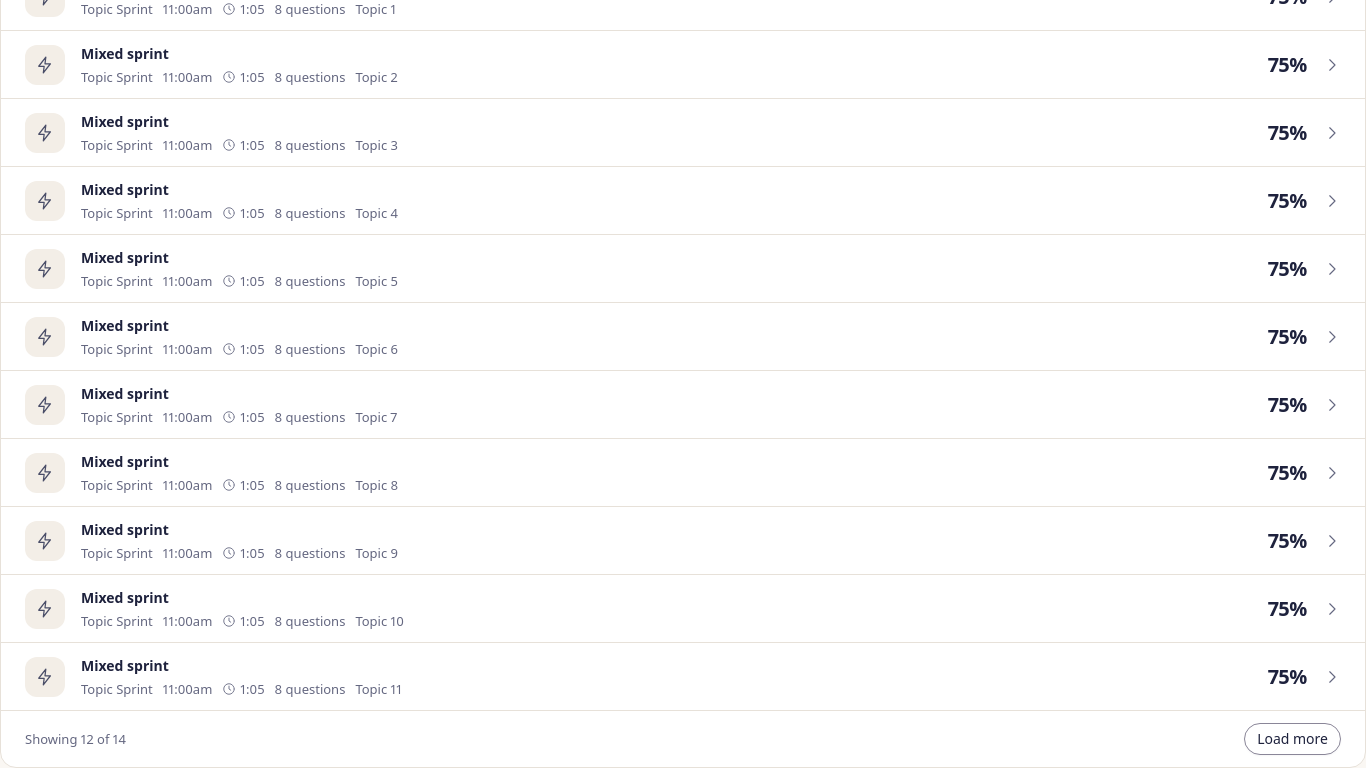
Scenario: reveals additional sessions without replacing the visible history
This screenshot has width=1366, height=768.
(page scrolled)
Check: the text "Showing 12 of 14" is shown, box left=25, top=728, right=126, bottom=750
Click the button "Load more" at (1293, 739), box left=1244, top=723, right=1341, bottom=755
(page scrolled)
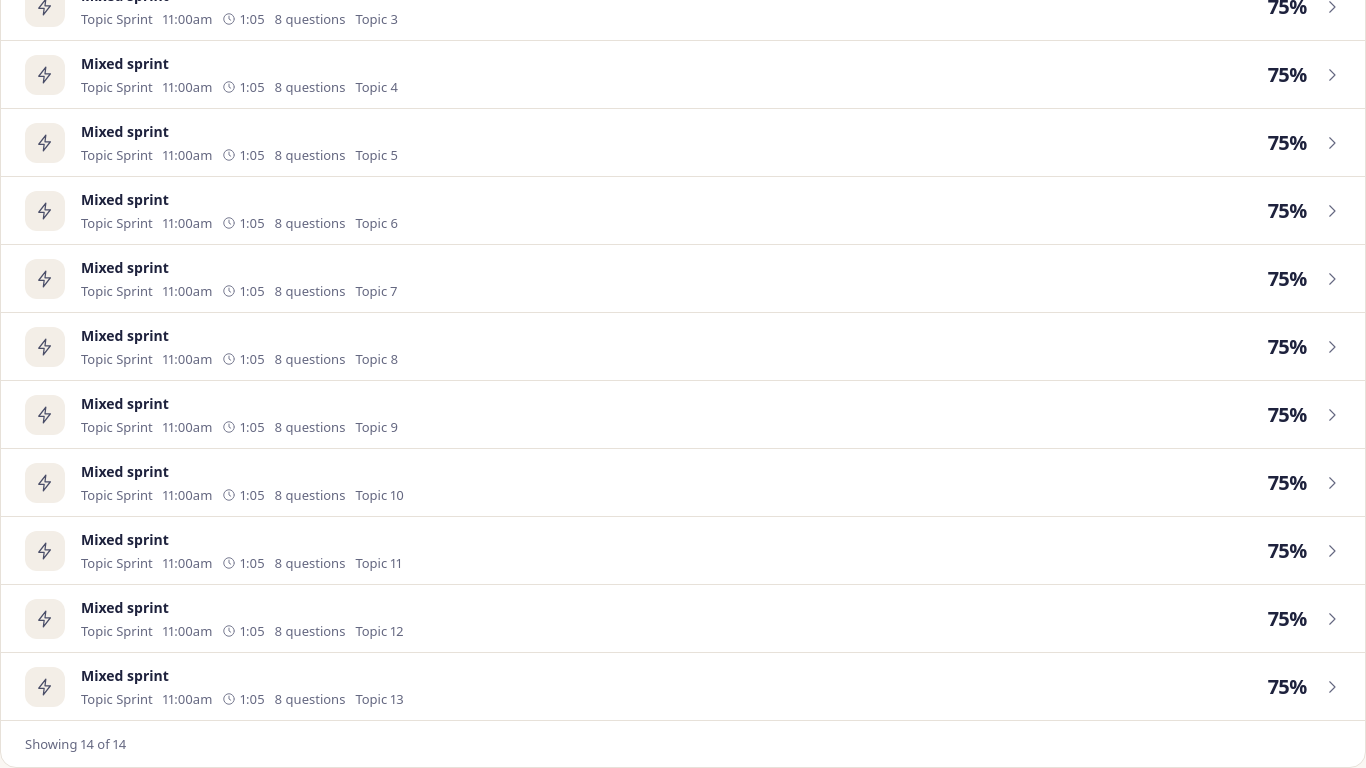
Check: the text "Showing 14 of 14" is shown, box left=25, top=733, right=126, bottom=755
Check: the link named "Mixed sprint · Topic 13" is shown, box left=1, top=653, right=1365, bottom=720
